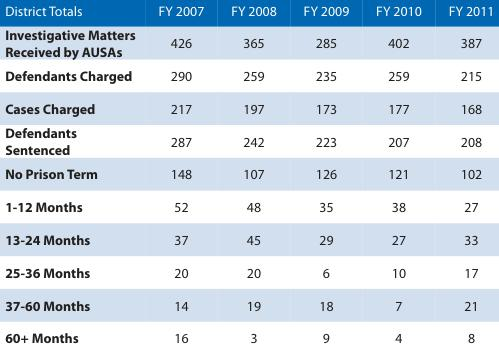table: (4, 4, 493, 345)
table column: (4, 4, 146, 345), (216, 4, 289, 345), (361, 4, 434, 345), (289, 4, 361, 345), (146, 4, 216, 345), (434, 4, 493, 345)
table column header: (4, 4, 493, 23)
table row: (4, 23, 493, 64), (4, 121, 493, 162), (4, 223, 493, 256), (4, 256, 493, 289), (4, 289, 493, 322), (4, 191, 493, 223), (4, 92, 493, 121), (4, 162, 493, 191), (4, 64, 493, 92), (4, 322, 493, 345), (4, 4, 493, 23)
